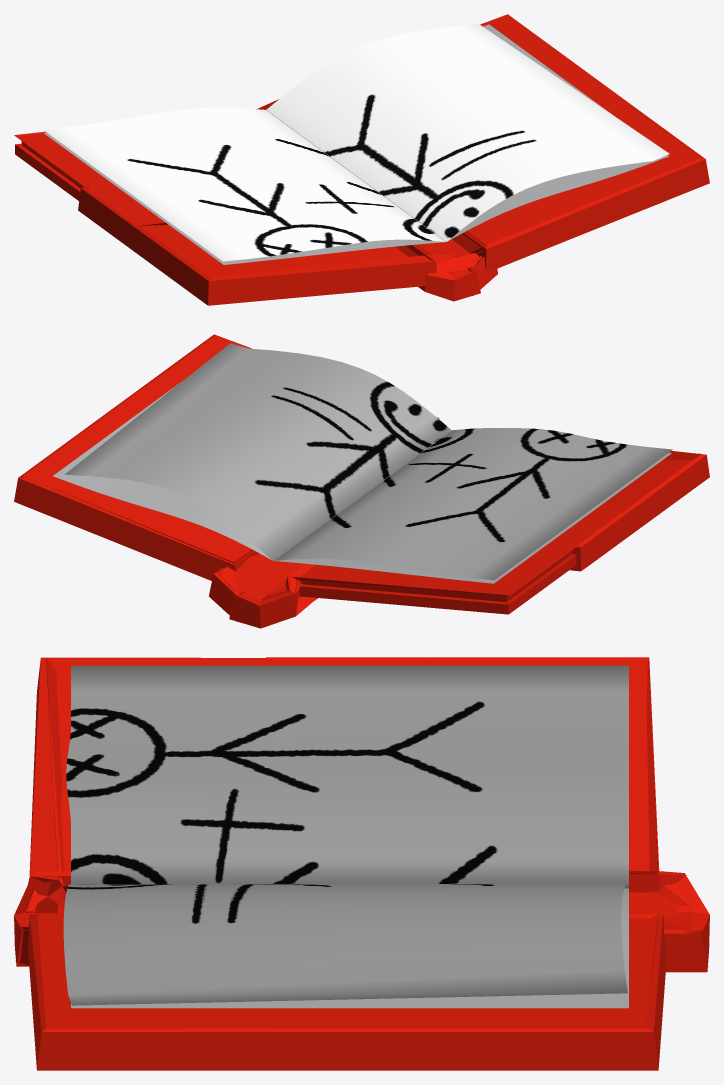
File: HcuffBook.fbx
3 views of the same model, one above another, from view 1: azimuth 30°, elevation 25°; view 2: azimuth 150°, elevation 25°; view 3: azimuth 270°, elevation 25° (orthographic). The views are drawn at different scales.
Visible parts, largest first — view 1: BezierCurve.005, Circle, BezierCurve.004, BezierCurve; view 2: BezierCurve.005, Circle, BezierCurve.004, BezierCurve; view 3: BezierCurve.005, Circle, BezierCurve.004.
Part boxes in pixels (bbox=[...]): BezierCurve.005: bbox=[43, 23, 669, 261]; Circle: bbox=[14, 14, 709, 305]; BezierCurve.004: bbox=[447, 24, 669, 241]; BezierCurve: bbox=[44, 110, 445, 264]; BezierCurve.005: bbox=[65, 343, 672, 580]; Circle: bbox=[14, 334, 709, 628]; BezierCurve.004: bbox=[53, 383, 272, 560]; BezierCurve: bbox=[273, 430, 671, 583]; BezierCurve.005: bbox=[63, 665, 628, 1005]; Circle: bbox=[14, 657, 709, 1070]; BezierCurve.004: bbox=[71, 888, 628, 1008].
Size of the model in its own units: 1330 by 232 by 1034.
